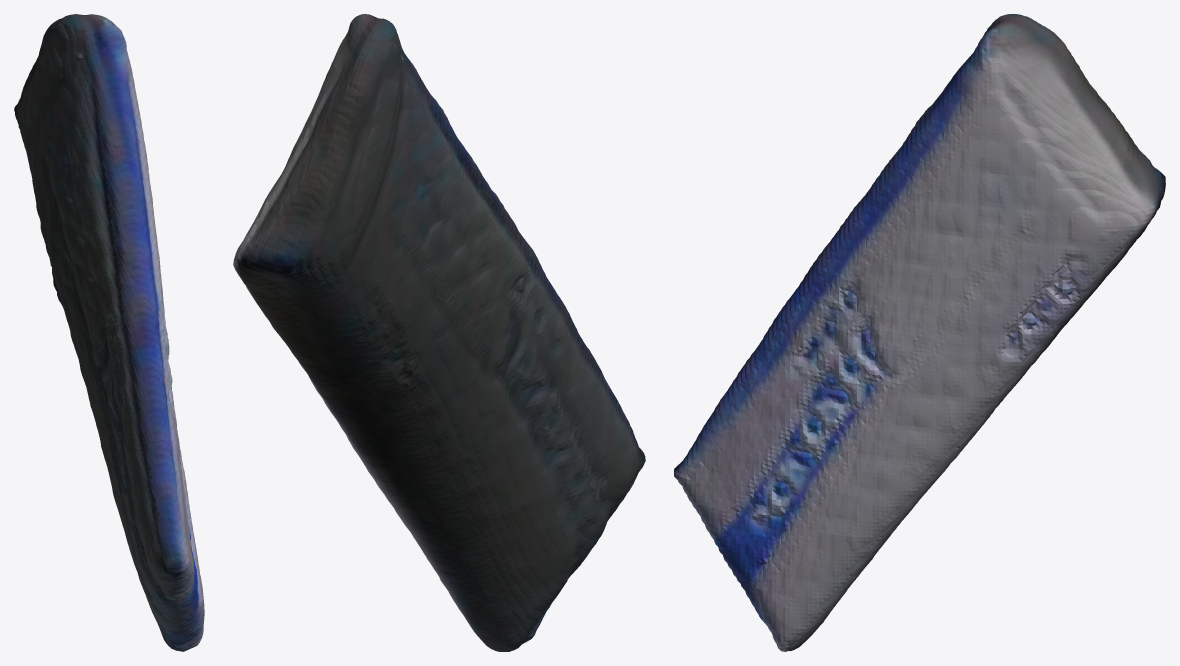
3 renders of one model, left to right at view 1: azimuth 30°, elevation 25°; view 2: azimuth 150°, elevation 25°; view 3: azimuth 270°, elevation 25°, orthographic. The views are drawn at different scales.
Bounding box in the file's own units: 0.2417 × 1.06 × 0.7503.
